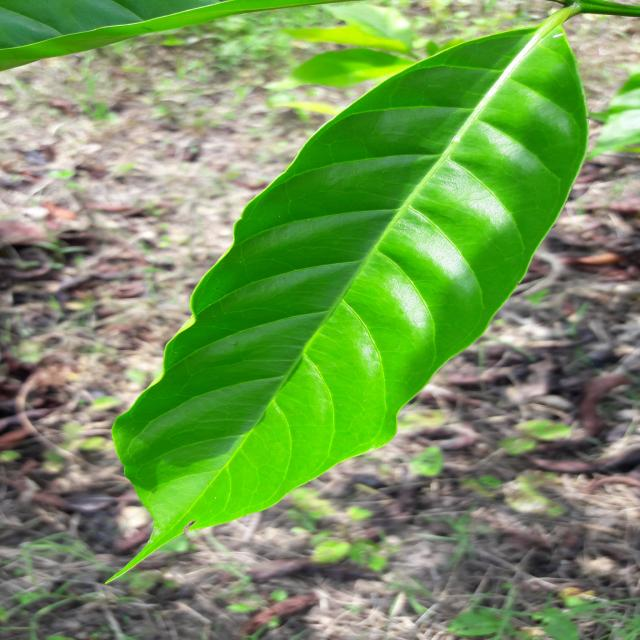Sanas: (111, 8, 590, 578)
